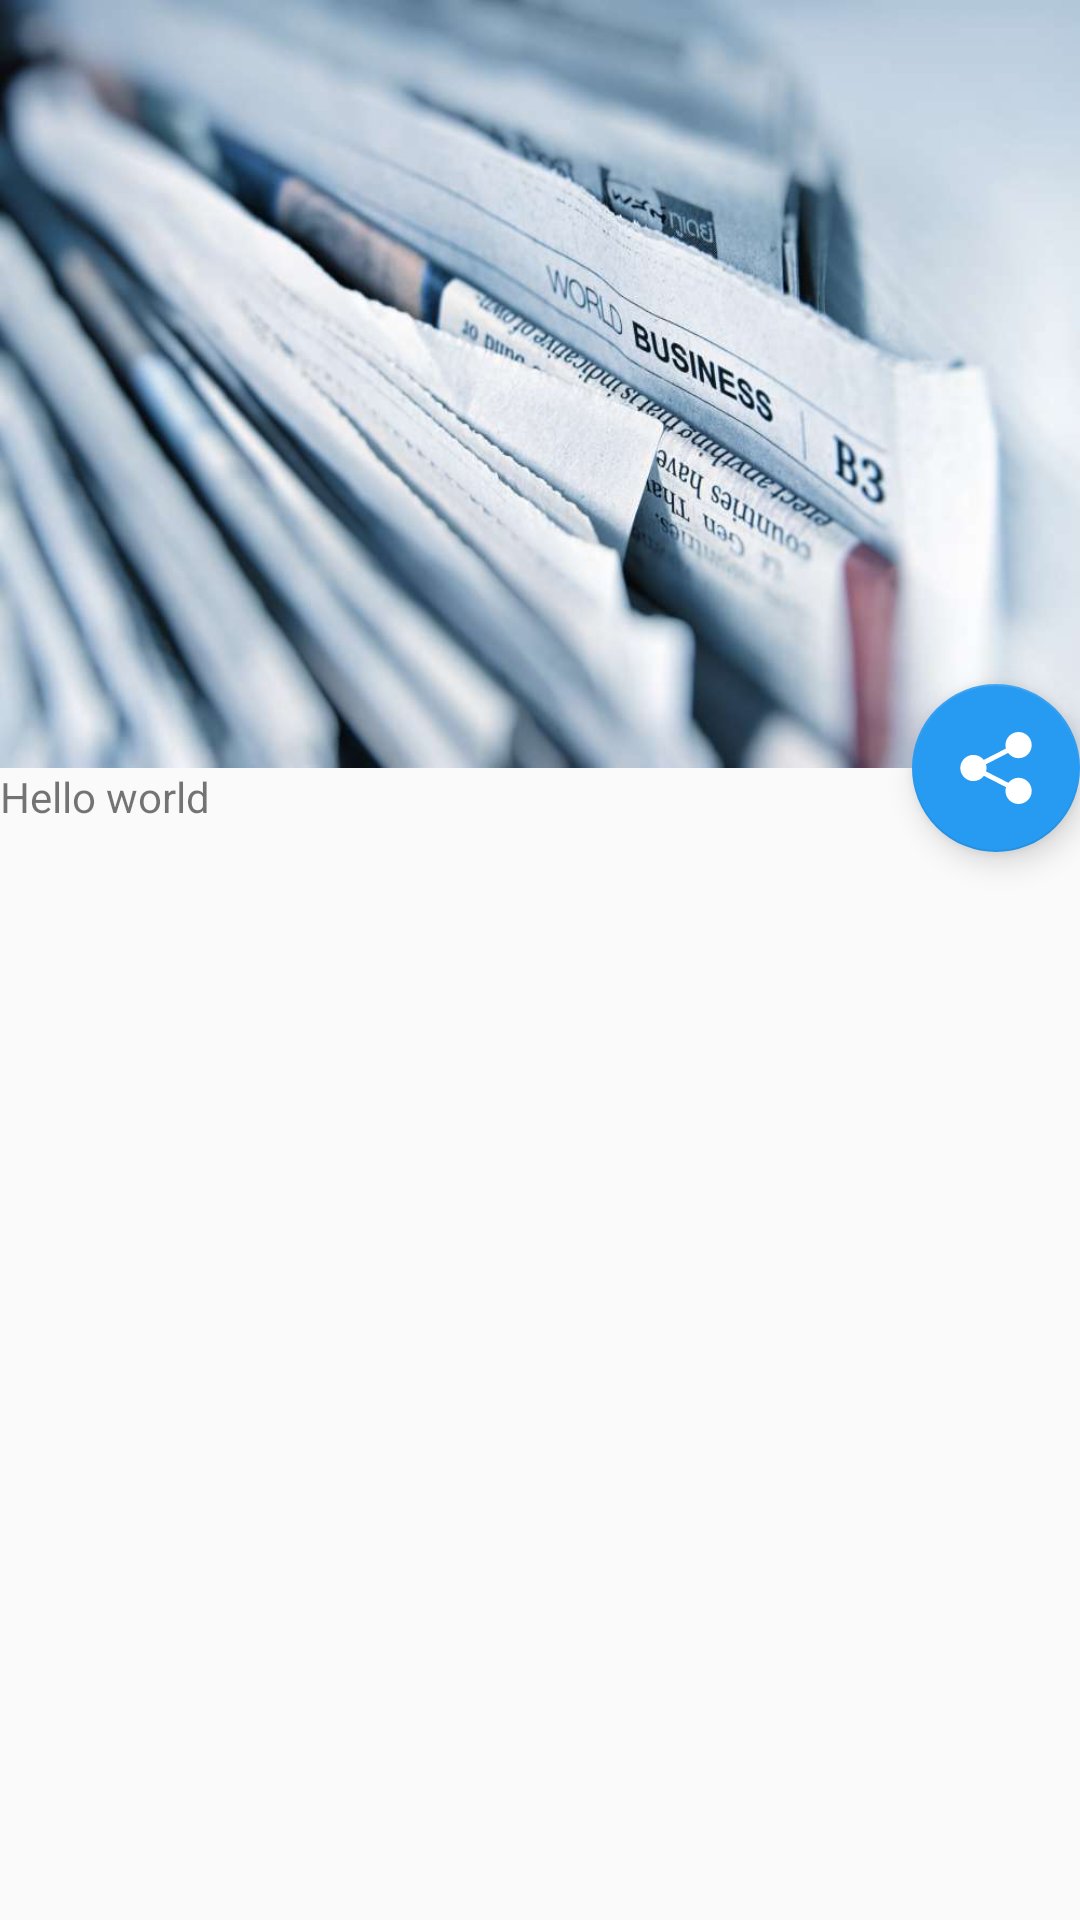

Named icons in this screenshot (1080 x 1920) and their centers, (x=x, y=y):
share: (x=996, y=768)
